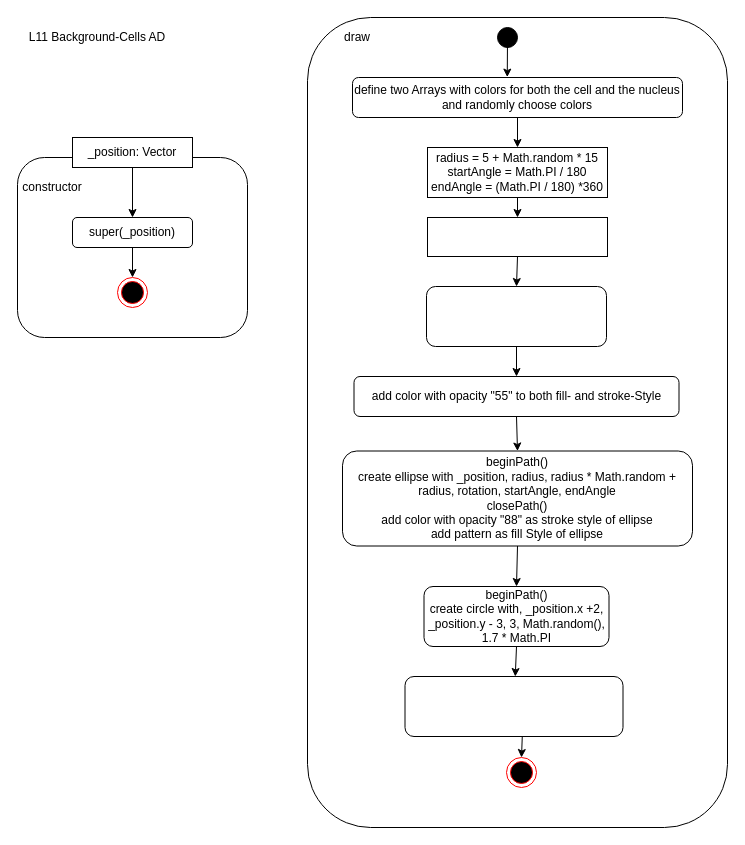
Some shapes in this 745 by 845 pixel diagram are drawn without their labels. The shapes that lost their labels are listed below. From the top down, each one's box as (x1, y1, x2, y2) in pixels, then its label:
(426, 216, 608, 256): rotation = Math.random * 360 pattern = create Canvas 2D
(426, 286, 606, 346): pattern.width and height = 2; create small dots on the pattern to create texture
(404, 676, 623, 736): closePath() add color for nucleus with opacity "33"
